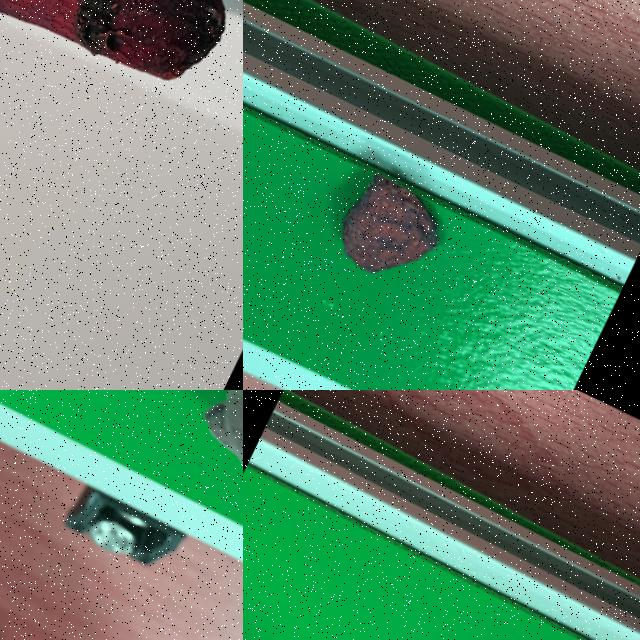Agglomerated_cocoabeans: (94, 390, 242, 545)
Fine_cocoabeans: (0, 0, 242, 203)
Flat_cocoabeans: (272, 125, 519, 329)
